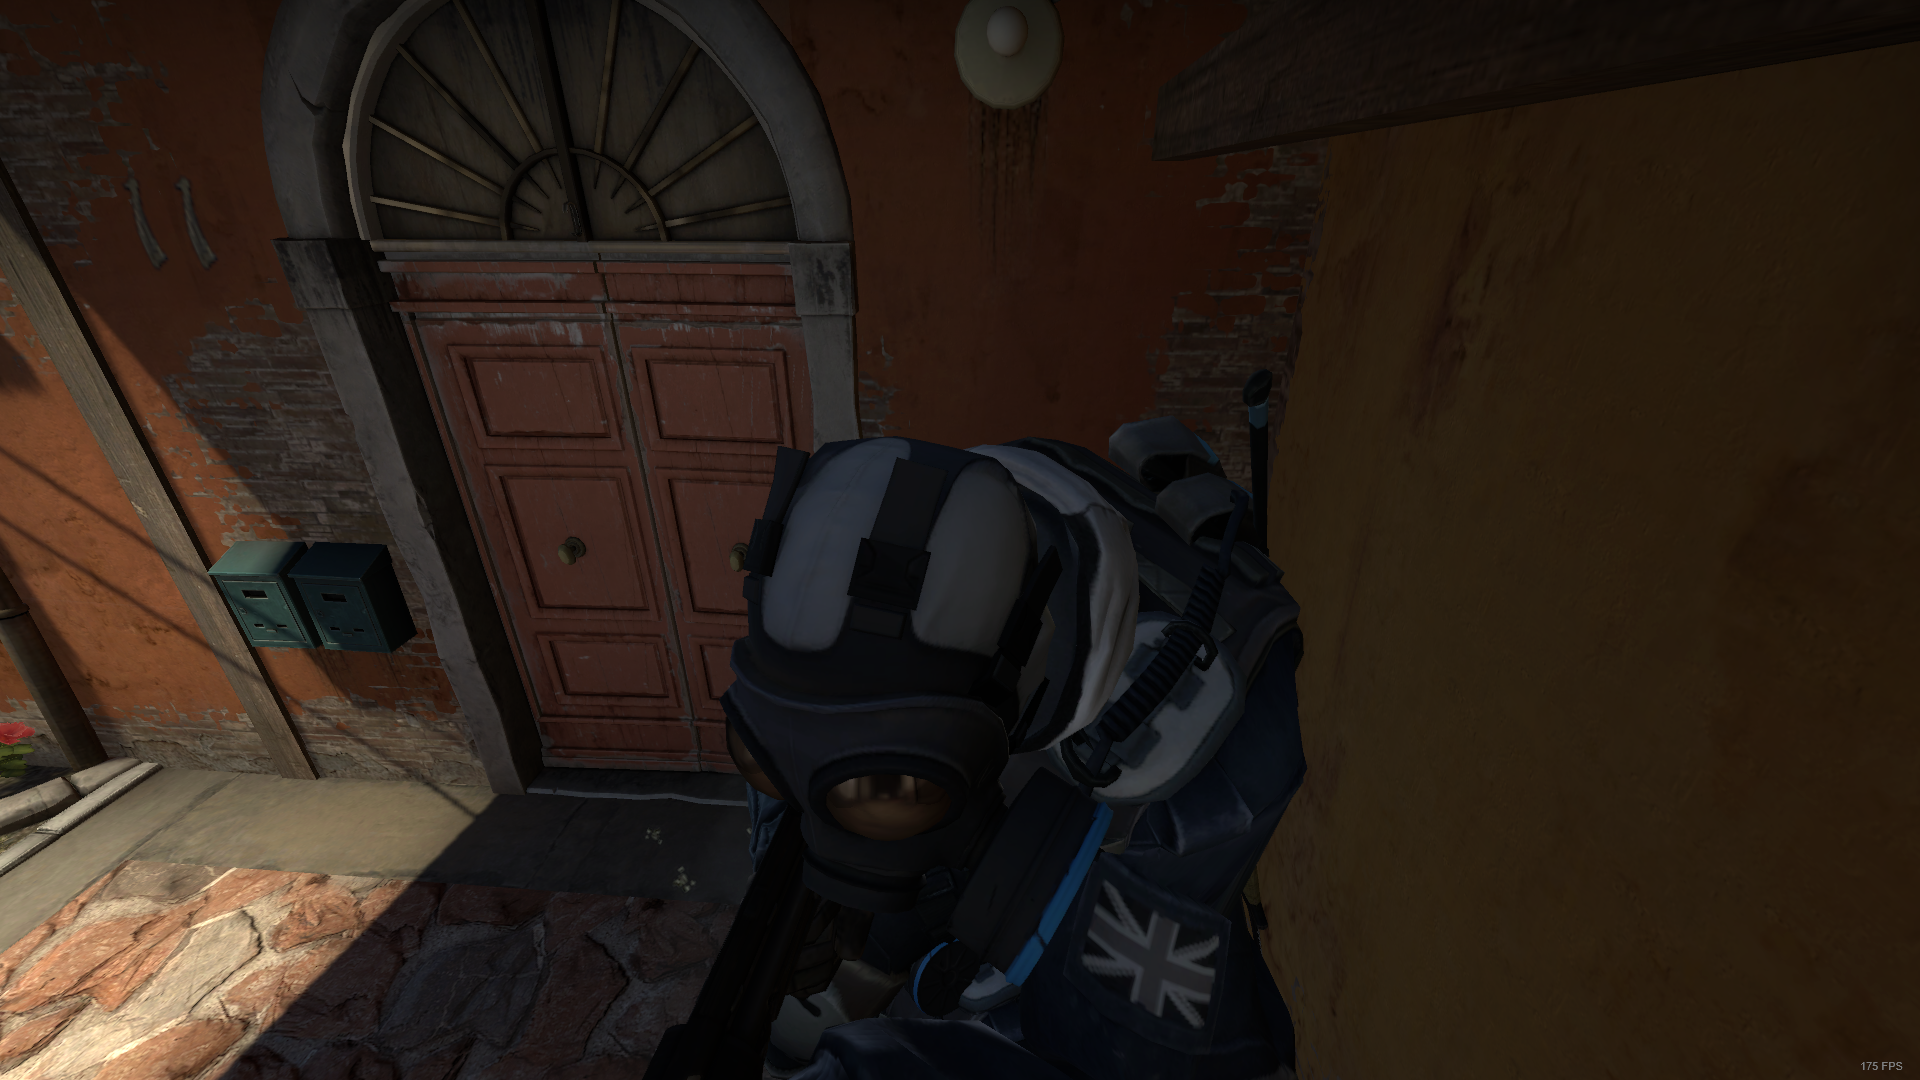ct: (727, 415, 1309, 1080)
